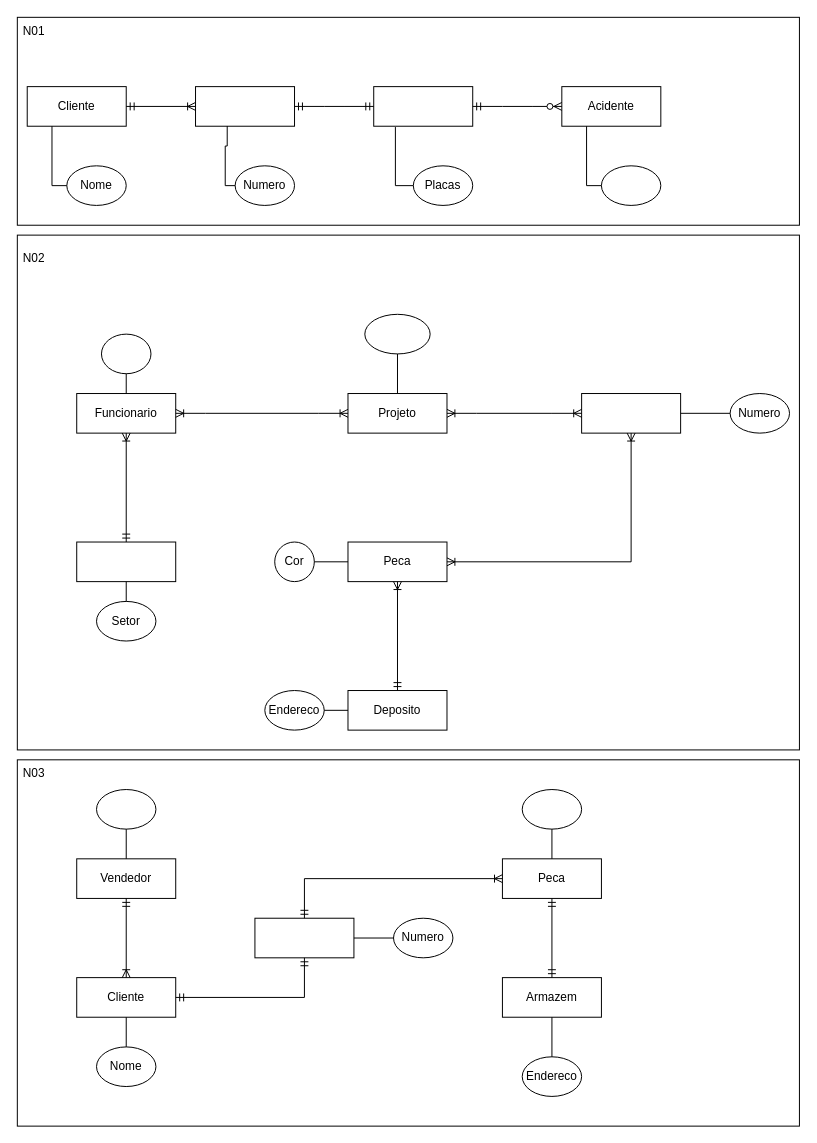
This 817x1143 diagram has some shape labels left out. The centre of each missing label's shape, as x and y in pixels:
"Apolice" belongs at (x=245, y=106).
"Carro" belongs at (x=423, y=106).
"Codigo" belongs at (x=126, y=809).
"Departamento" belongs at (x=126, y=561).
"Fornecedor" belongs at (x=631, y=413).
"Local" belongs at (x=630, y=185).
"Orcamento" belongs at (x=397, y=333).
"Pedido" belongs at (x=304, y=937).
"Preco" belongs at (x=551, y=809).
"Salario" belongs at (x=125, y=353).
